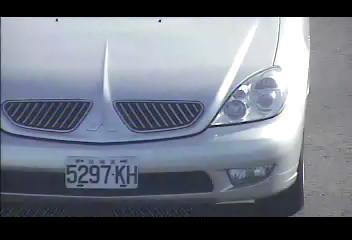plate: (63, 156, 139, 190)
